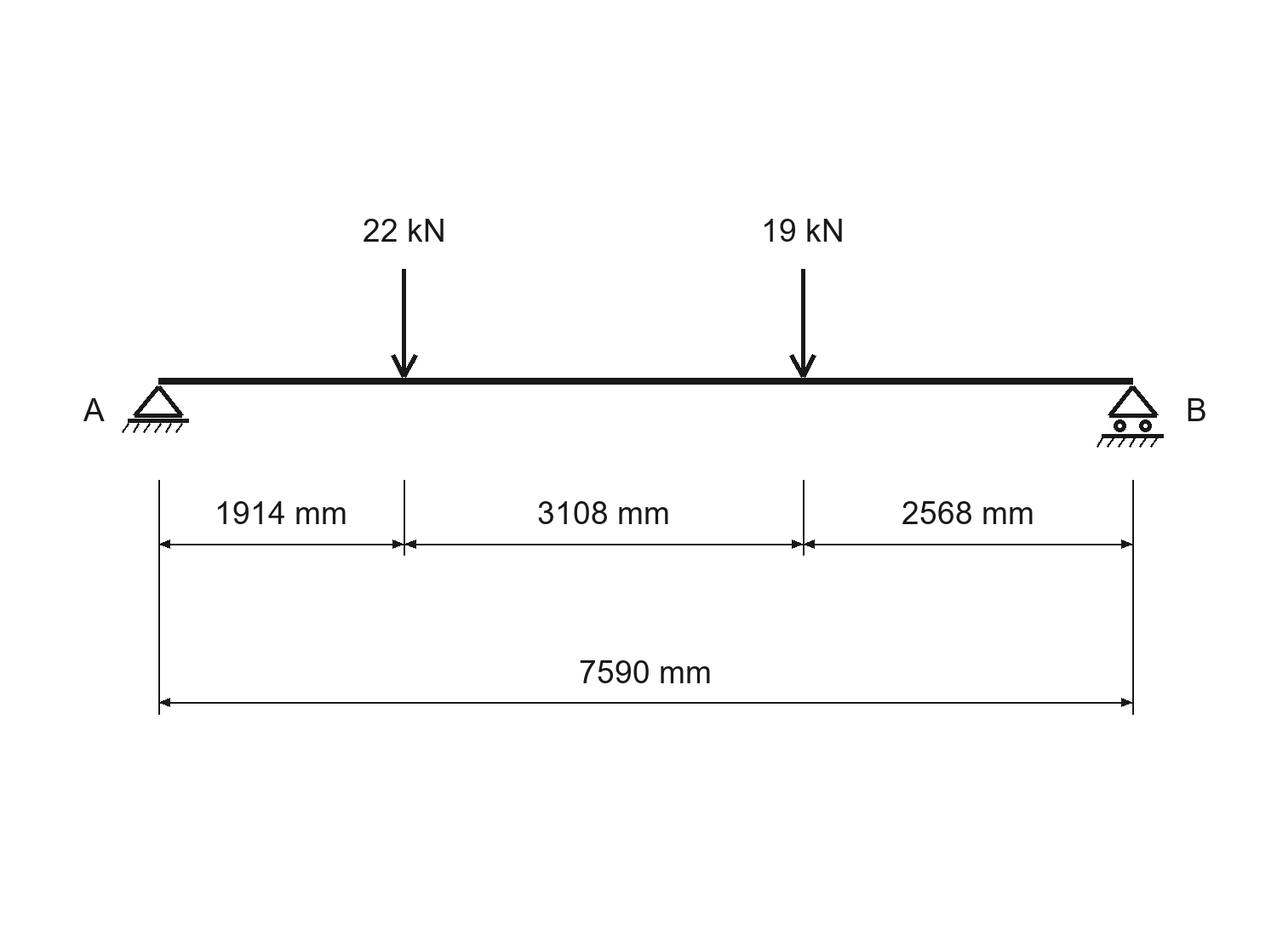pin_support: (122, 385, 189, 433)
point_load: (391, 269, 418, 378), (789, 269, 816, 378)
roller_support: (1097, 385, 1164, 448)
